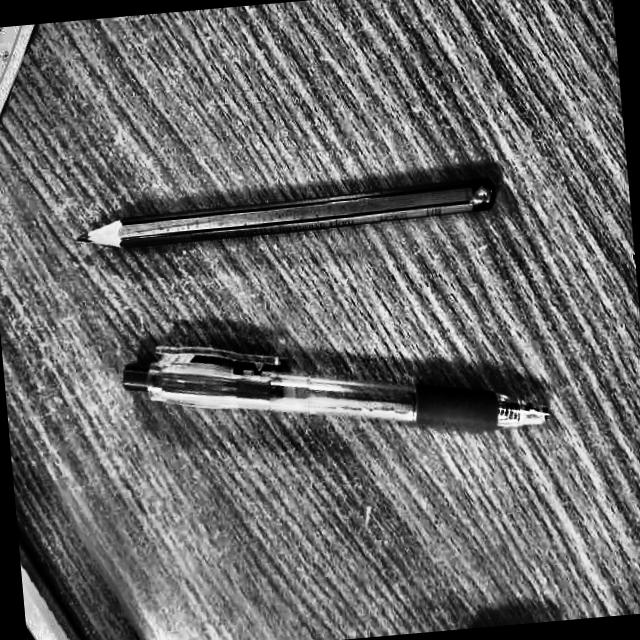Pen: (122, 313, 553, 474)
